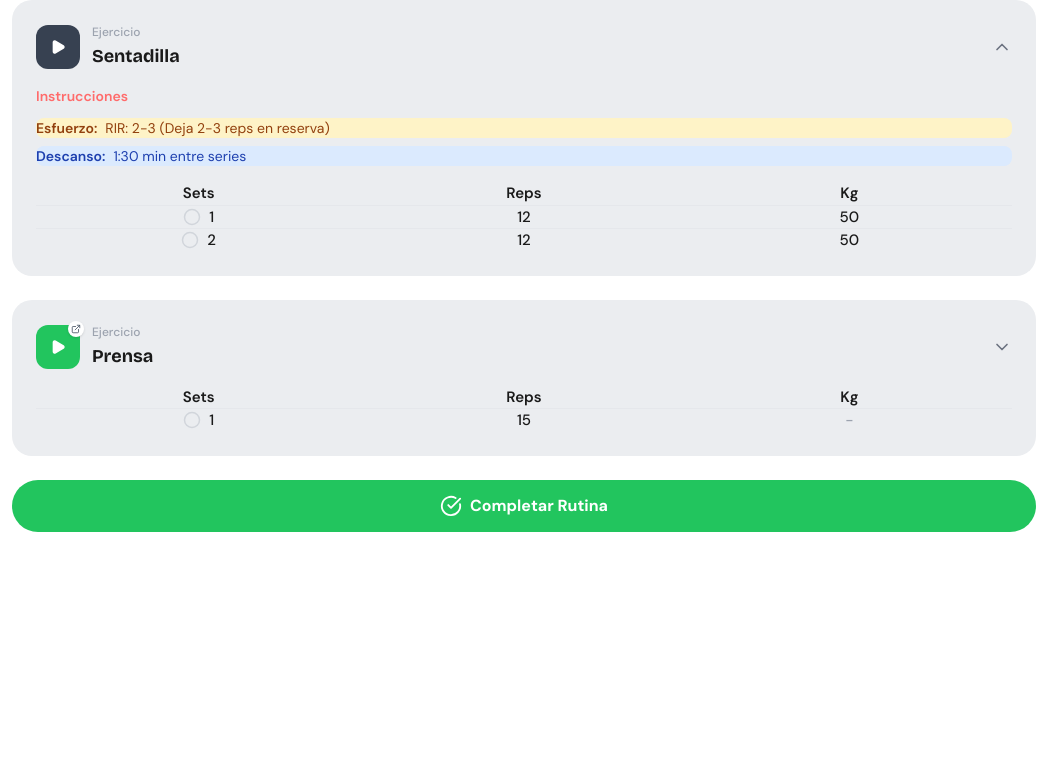
Test: WorkoutContent › Editable fields › should make reps editable on click
// Find reps value "12" and click it
Click the 1st text "12" at point(524, 217), box [517,206,531,228]
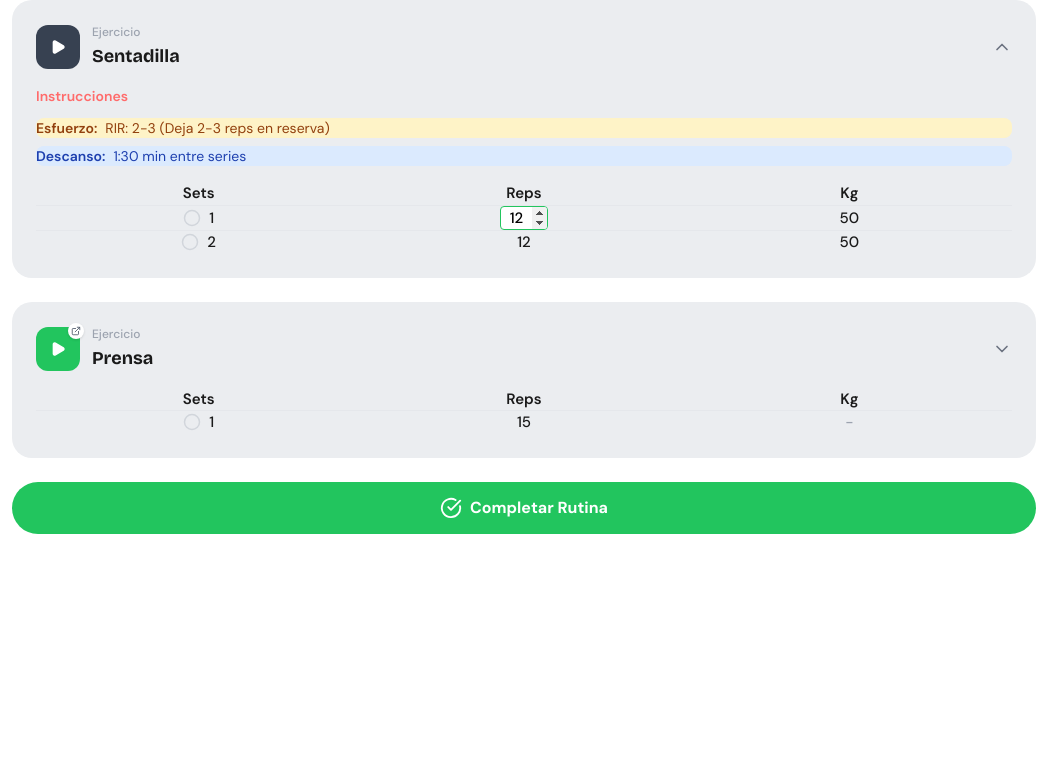
Result: the number field holds "12" at [500,206,548,230]
